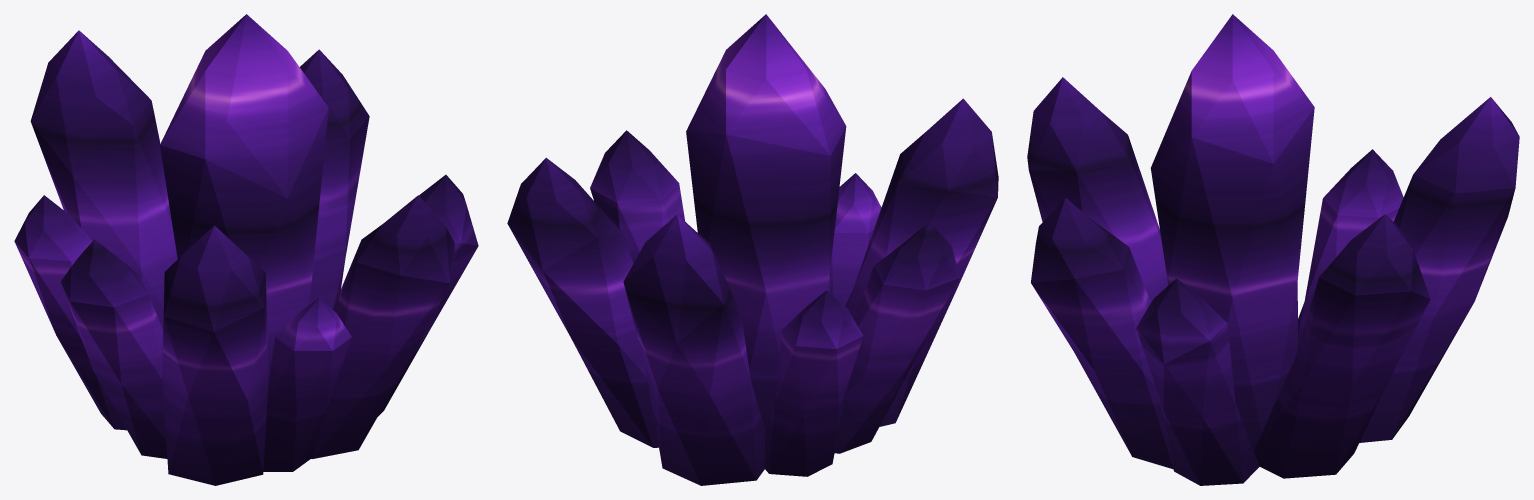
The model's file is Crystal1.obj.
3 views of the same model, side by side, from view 1: azimuth 30°, elevation 25°; view 2: azimuth 150°, elevation 25°; view 3: azimuth 270°, elevation 25° (orthographic). The views are drawn at different scales.
Parts seen in each view (by area): view 1: crystal_4; view 2: crystal_4; view 3: crystal_4.
Boxes of the visible parts, bbox=[...] form: crystal_4: bbox=[14, 14, 478, 485]; crystal_4: bbox=[507, 14, 998, 485]; crystal_4: bbox=[1027, 14, 1519, 485].
Size of the model in its own units: 8.19 by 8.41 by 9.09.
